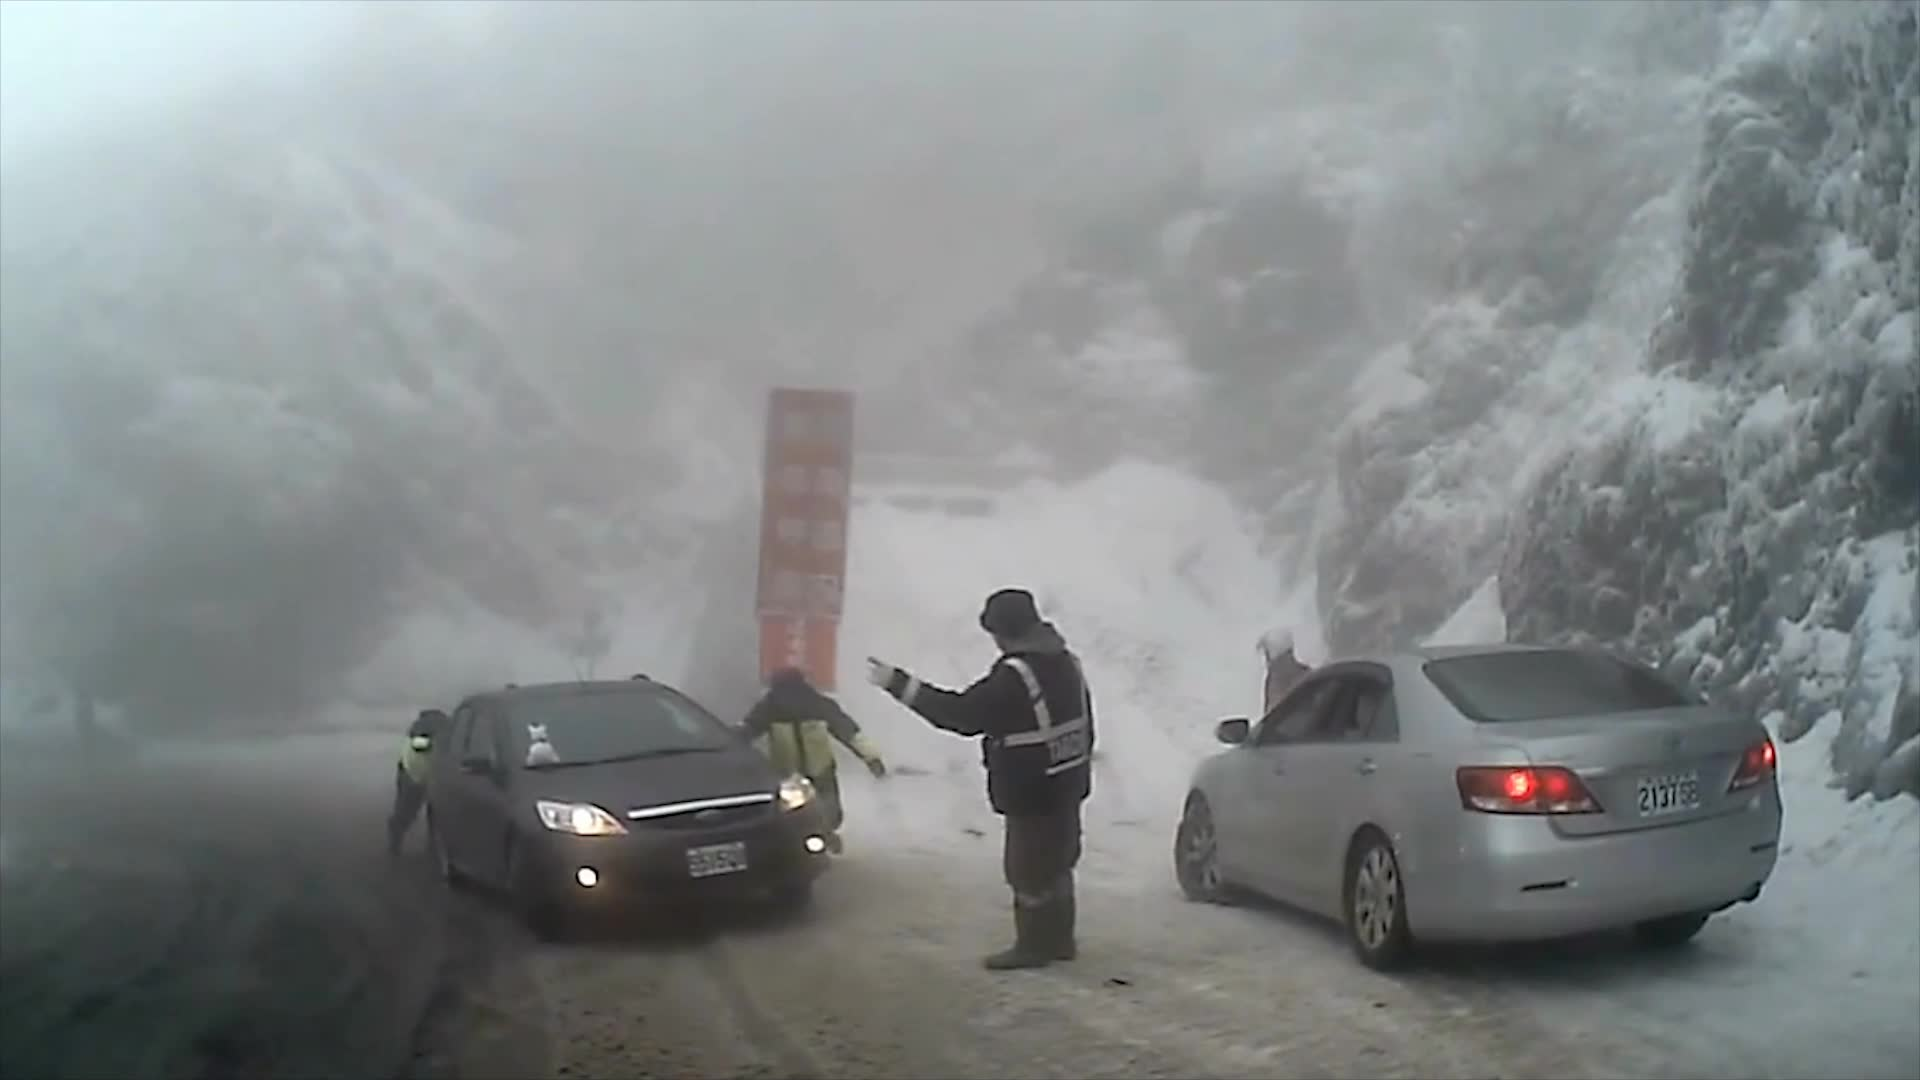pedestrian: (869, 589, 1101, 970), (732, 663, 880, 868), (1254, 625, 1324, 825), (386, 711, 474, 857)
vehicle: (1173, 644, 1783, 970), (424, 676, 831, 946)
